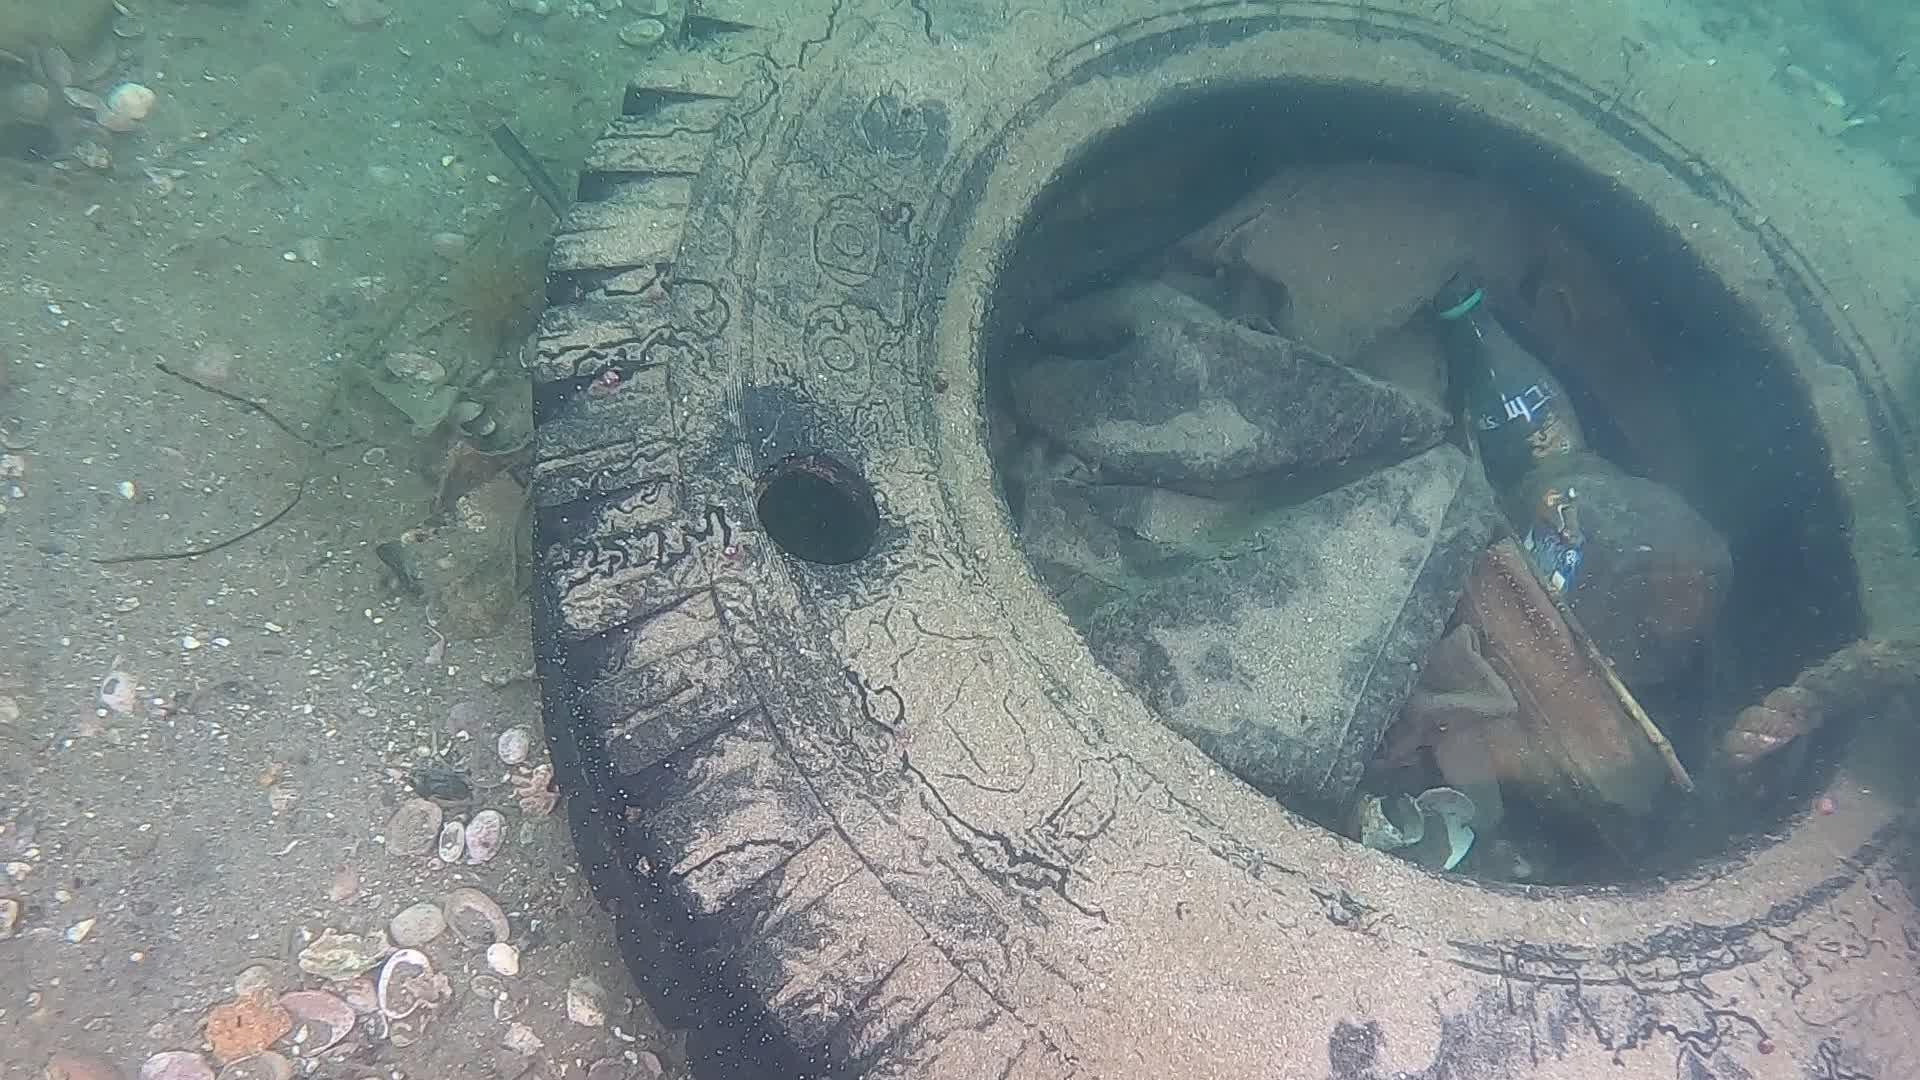rope: (1683, 601, 1920, 803)
tire: (529, 0, 1920, 1080)
